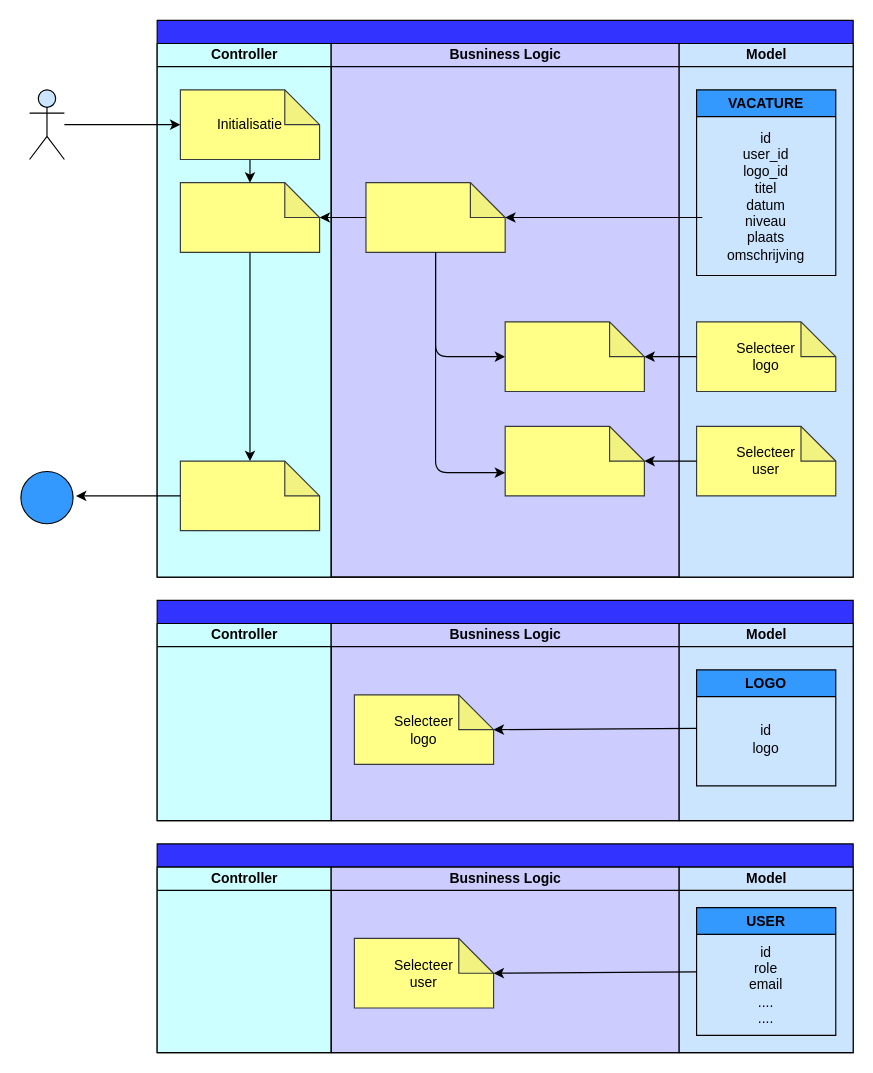
The diagram is 873 pixels wide and 1073 high, and some of its shapes have lost their labels. The shapes that lost their labels are listed below. From the top down, each one's centre as x and y in pixels, then its label:
At (46,124): "Actor".
At (249,217): "Homepage ophalen".
At (435,217): "Selecteer vacature".
At (574,356): "Ophalen logo".
At (574,460): "Ophalen user".
At (249,495): "Vacature tonen".
